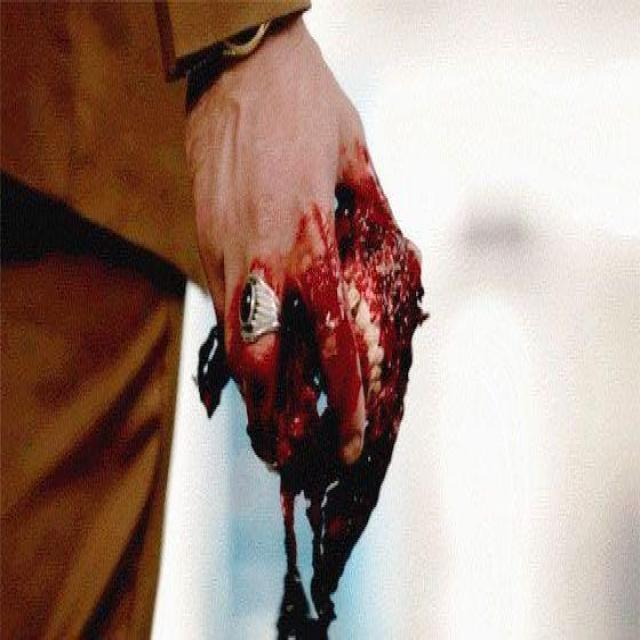flood: (214, 312, 400, 640)
